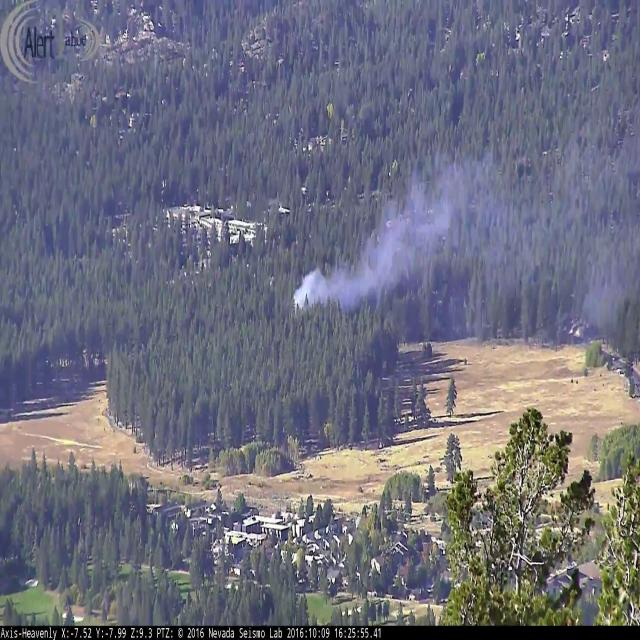smoke: (267, 145, 618, 310)
